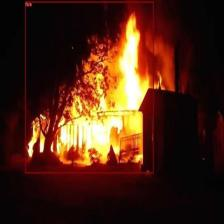fire: (24, 1, 154, 173)
